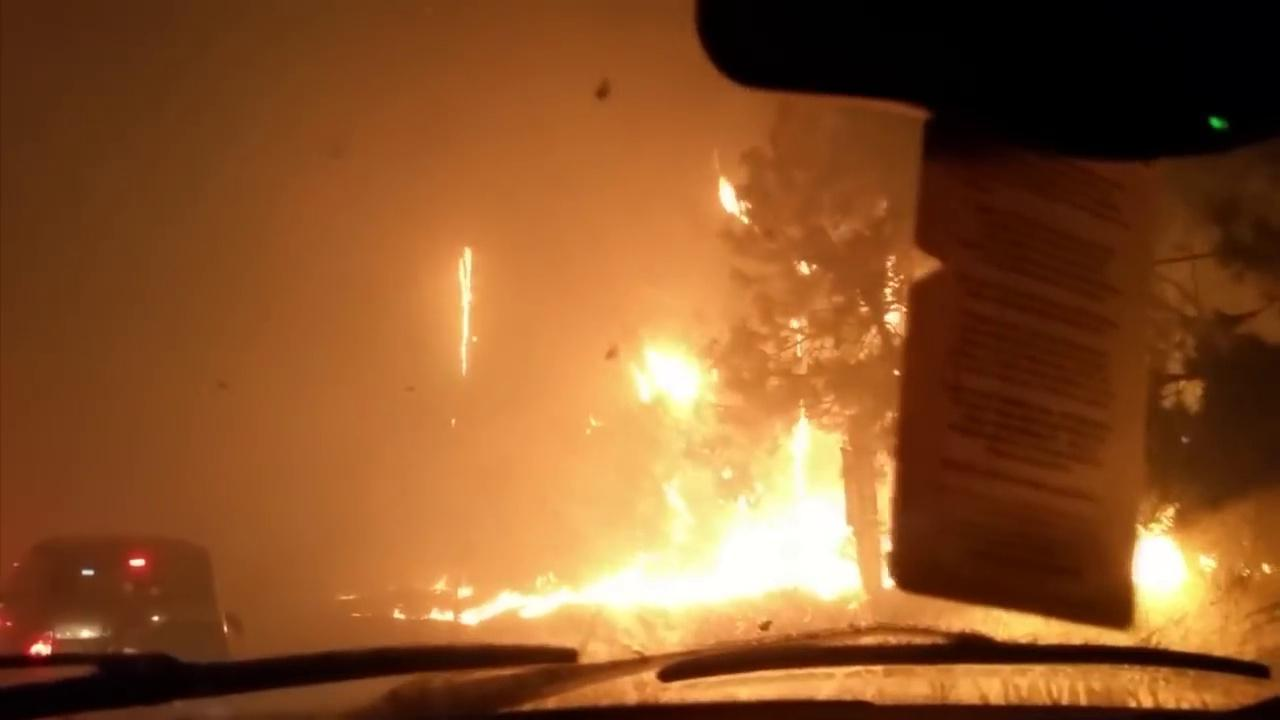Fire: (388, 339, 901, 624), (873, 251, 908, 332), (716, 176, 757, 226)
